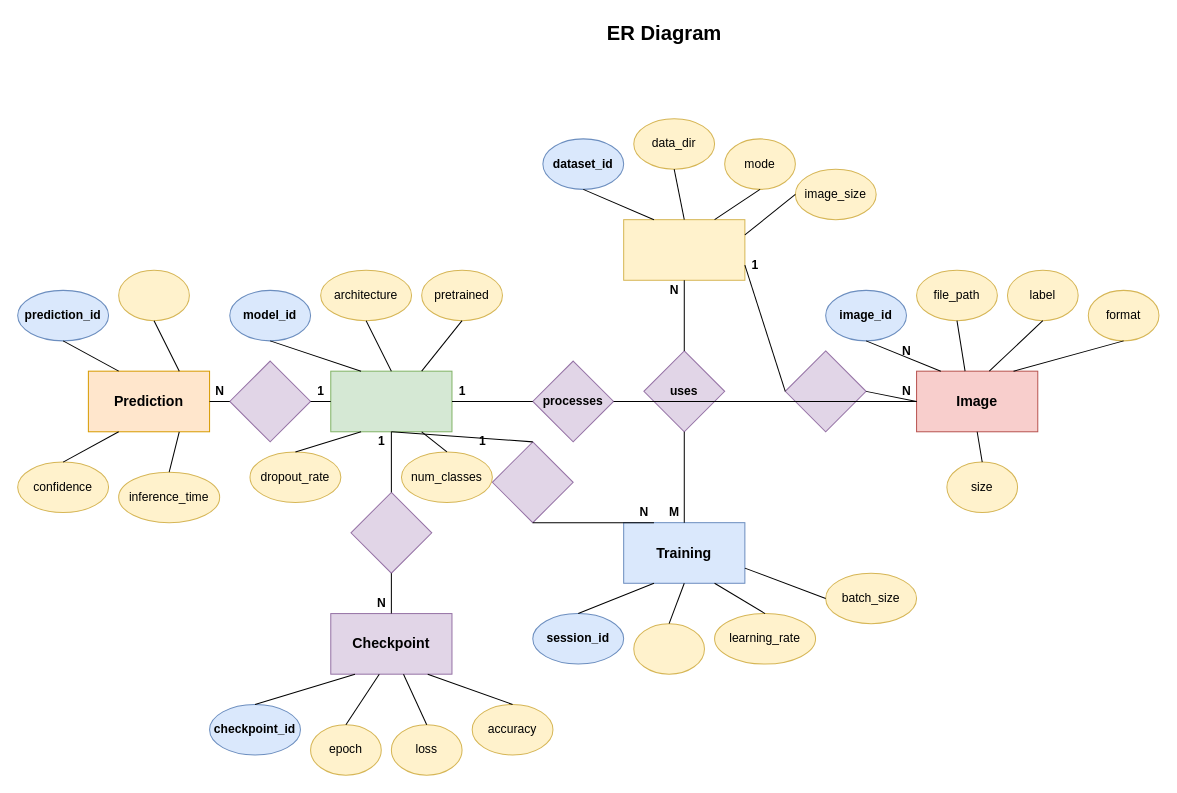
Image size: 1177x793. Some labels were removed from this diagram. The centre of each missing label's shape, as x and y in pixels:
"contains" goes at (x=825, y=391).
"Dataset" goes at (x=684, y=249).
"epochs" goes at (x=668, y=648).
"generates" goes at (x=270, y=401).
"Model" goes at (x=391, y=401).
"result" goes at (x=153, y=295).
"saves" goes at (x=391, y=532).
"trains" goes at (x=532, y=482).
